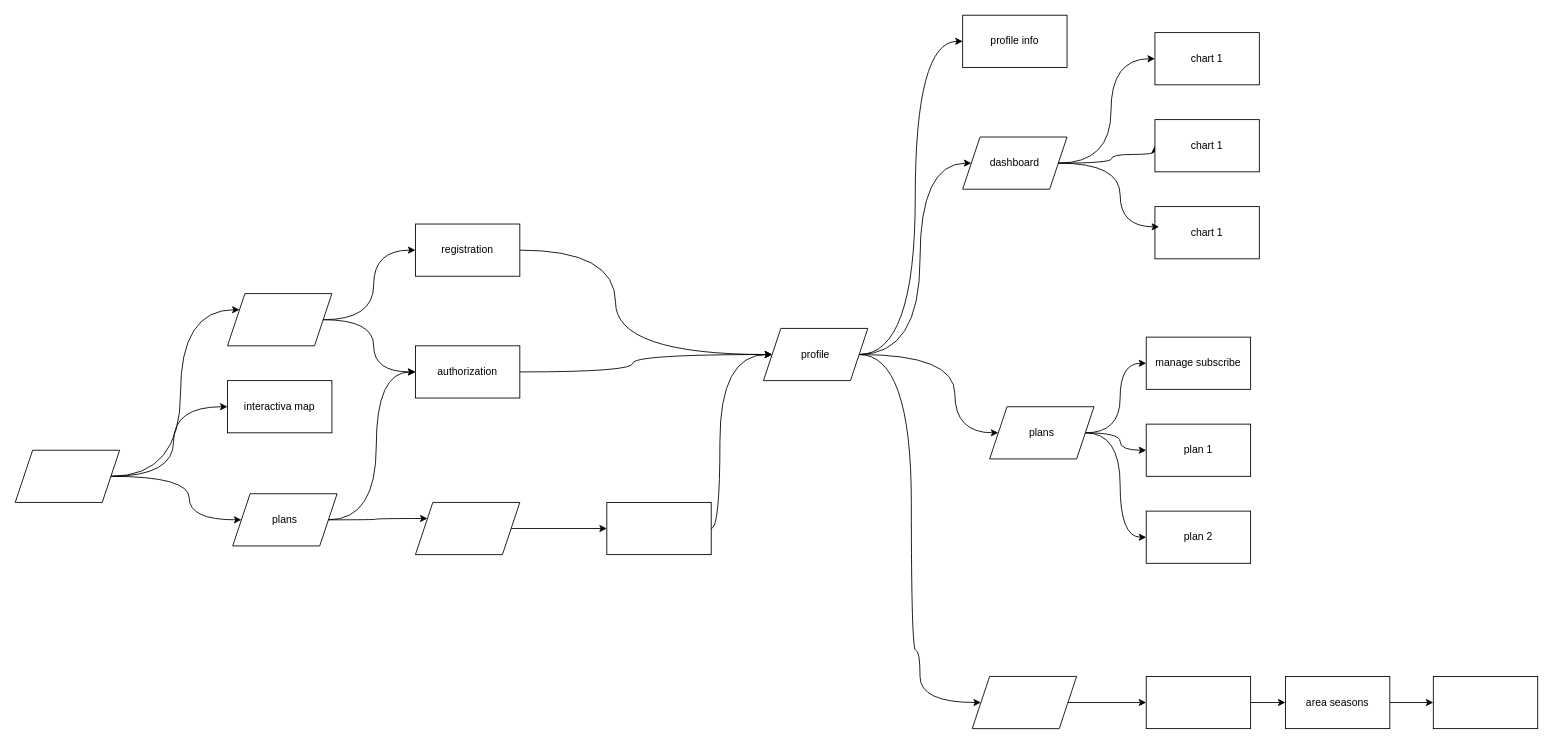
Image size: 1553x744. Some labels were removed from this diagram. The shapes that lost their labels are listed below. From the top down, each one's centre as x and y in pixels, then its label:
At point (279, 319): "registration/ authorization".
At point (67, 475): "main page".
At point (467, 528): "subscrption".
At point (658, 528): "payment".
At point (1024, 702): "area".
At point (1198, 702): "areas".
At point (1485, 702): "charts".
